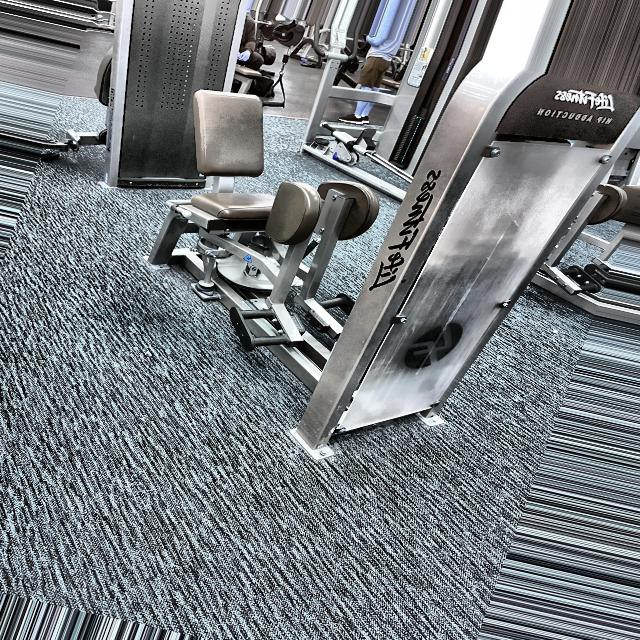hip_adduction_machine: (184, 66, 370, 387), (518, 108, 620, 139)
